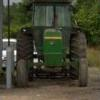Tractor: (8, 8, 96, 96)
